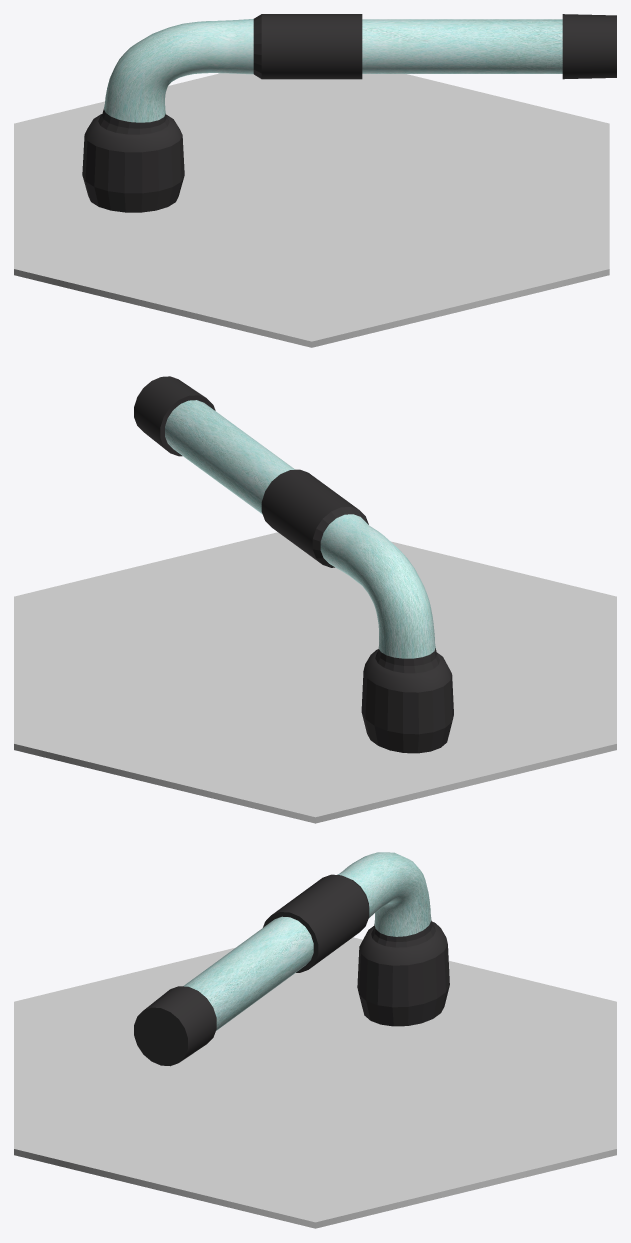
The model's file is mono.FBX.
The picture shows the model from 3 angles, top to bottom: view 1: azimuth 30°, elevation 25°; view 2: azimuth 150°, elevation 25°; view 3: azimuth 270°, elevation 25°; orthographic projection.
Visible parts, largest first — view 1: Cylinder001, Cylinder002; view 2: Cylinder001, Cylinder002; view 3: Cylinder001, Cylinder002.
Part boxes in pixels (x1,y1,x2,y2): Cylinder001: (14, 73, 609, 347); Cylinder002: (82, 14, 616, 212); Cylinder001: (14, 532, 616, 823); Cylinder002: (134, 376, 453, 753); Cylinder001: (14, 937, 616, 1228); Cylinder002: (134, 852, 449, 1066).
Bounding box in the file's own units: 100 × 29.75 × 86.6.
2 materials, 2 textured.
